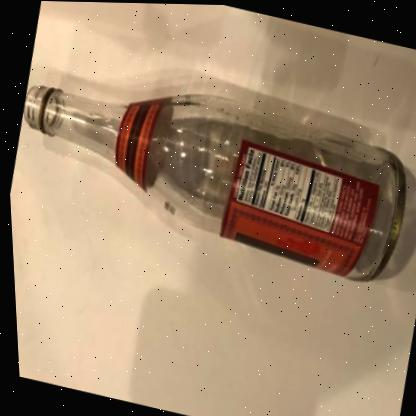Glass: (20, 83, 408, 278)
